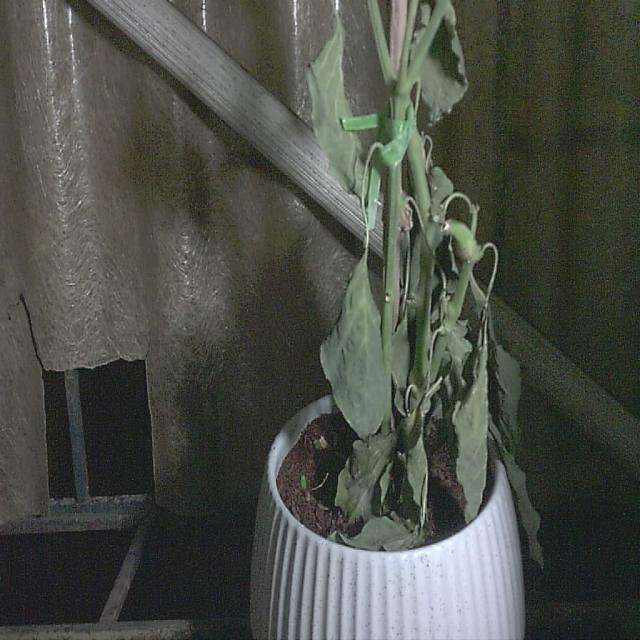Leaf: (319, 251, 390, 434), (449, 332, 488, 525)
